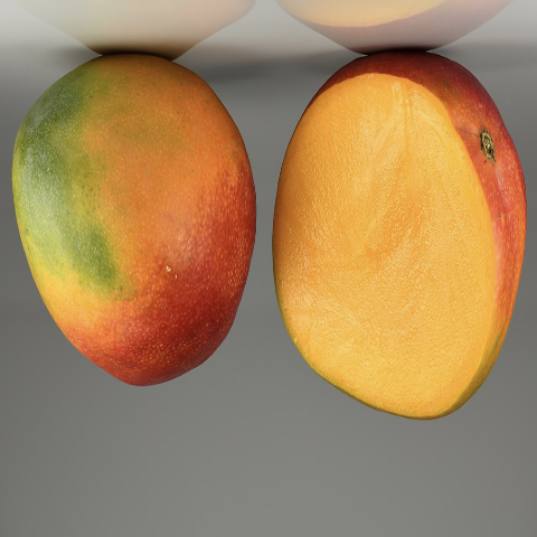mango: (268, 11, 532, 438), (6, 17, 262, 392)
